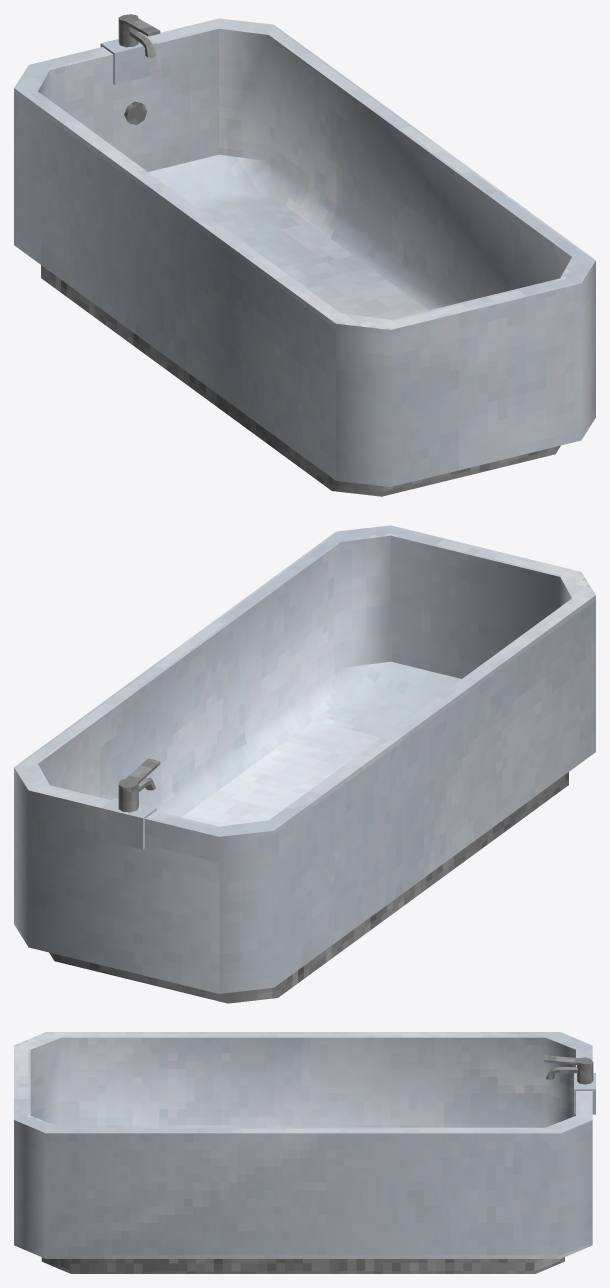
File: bathtub.fbx
3 views of the same model, one above another, from view 1: azimuth 30°, elevation 25°; view 2: azimuth 150°, elevation 25°; view 3: azimuth 270°, elevation 25° (orthographic). The views are drawn at different scales.
Visible parts, largest first — view 1: Bathroom_Bathtub; view 2: Bathroom_Bathtub; view 3: Bathroom_Bathtub.
Part boxes in pixels (x1,y1,x2,y2): Bathroom_Bathtub: (14, 14, 595, 496); Bathroom_Bathtub: (14, 525, 595, 1003); Bathroom_Bathtub: (14, 1032, 595, 1273).
Size of the model in its own units: 117 by 92.03 by 285.
